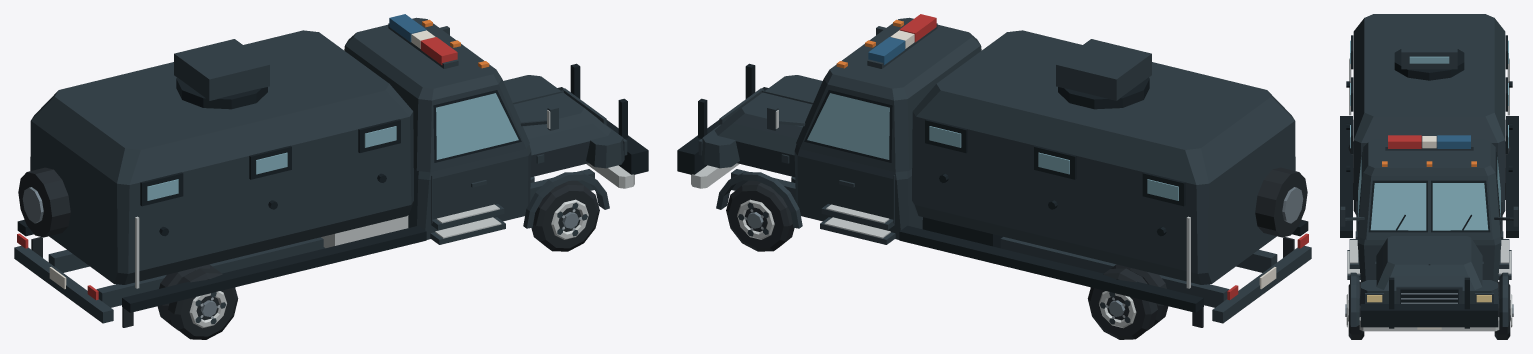
The model's file is b15_tactical_rescue_truck.glb.
3 renders of one model, left to right at view 1: azimuth 30°, elevation 25°; view 2: azimuth 150°, elevation 25°; view 3: azimuth 270°, elevation 25°, orthographic. The views are drawn at different scales.
Parts seen in each view (by area): view 1: b15_tactical_rescue_truck; view 2: b15_tactical_rescue_truck; view 3: b15_tactical_rescue_truck.
Part boxes in pixels (x1,y1,x2,y2): b15_tactical_rescue_truck: (14, 14, 648, 339); b15_tactical_rescue_truck: (677, 14, 1311, 339); b15_tactical_rescue_truck: (1340, 14, 1518, 339).
Size of the model in its own units: 8.61 by 3.29 by 2.93.
